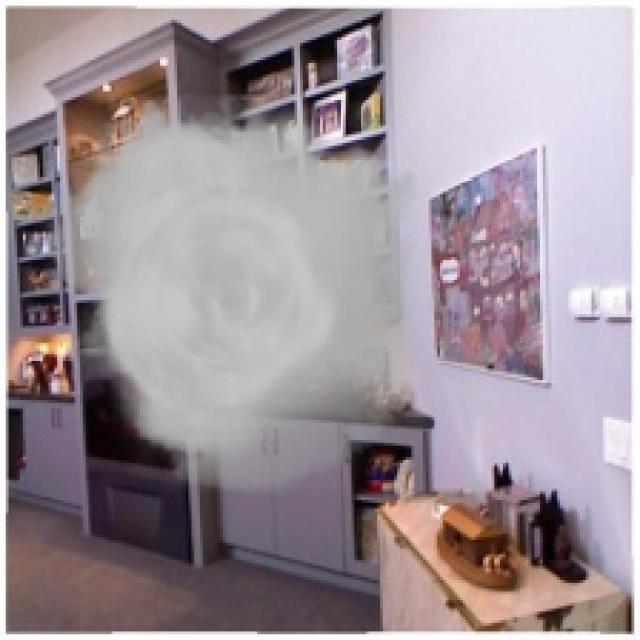smoke: (34, 94, 437, 494)
